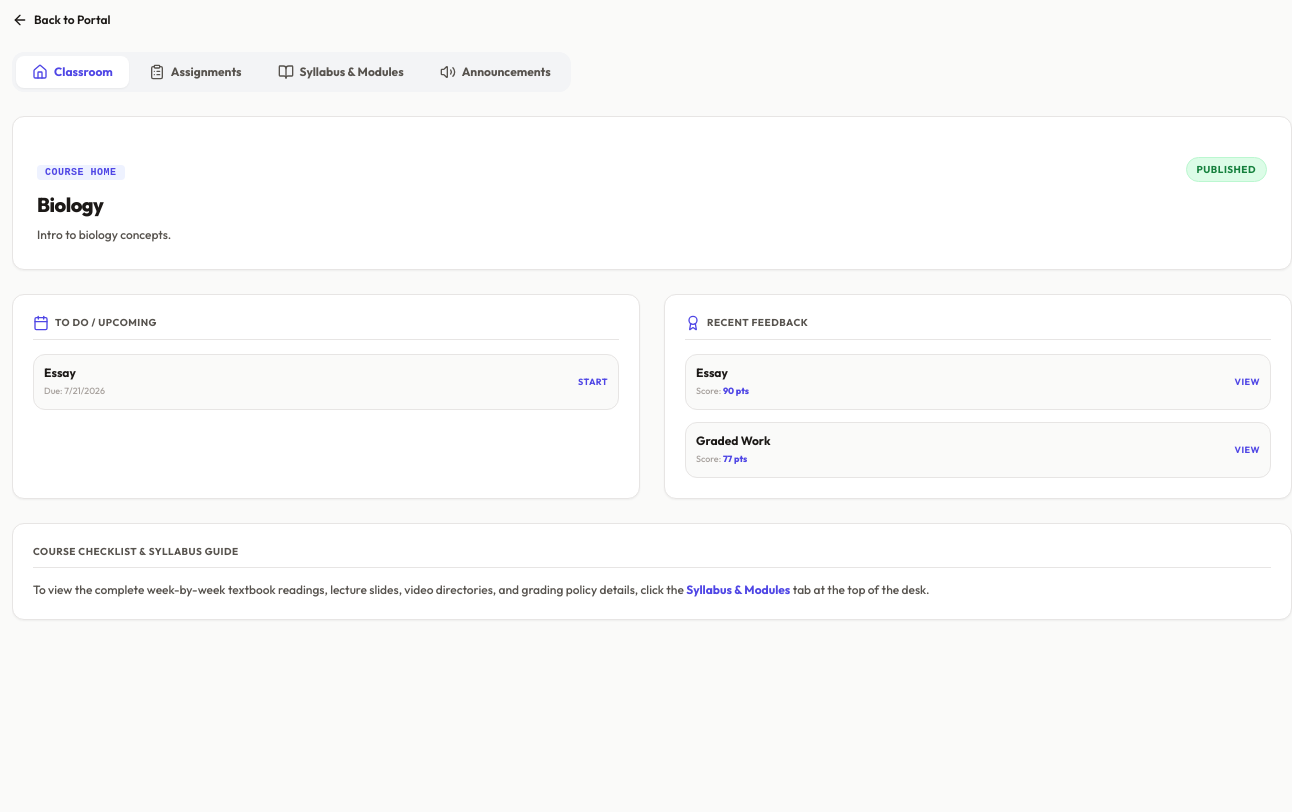
Test: StudentClassDetailPage › clicking an upcoming to-do item switches to the assignments tab with that assignment selected
Click the text "Essay" in the row of "Start": (60, 372) [44, 364, 76, 380]
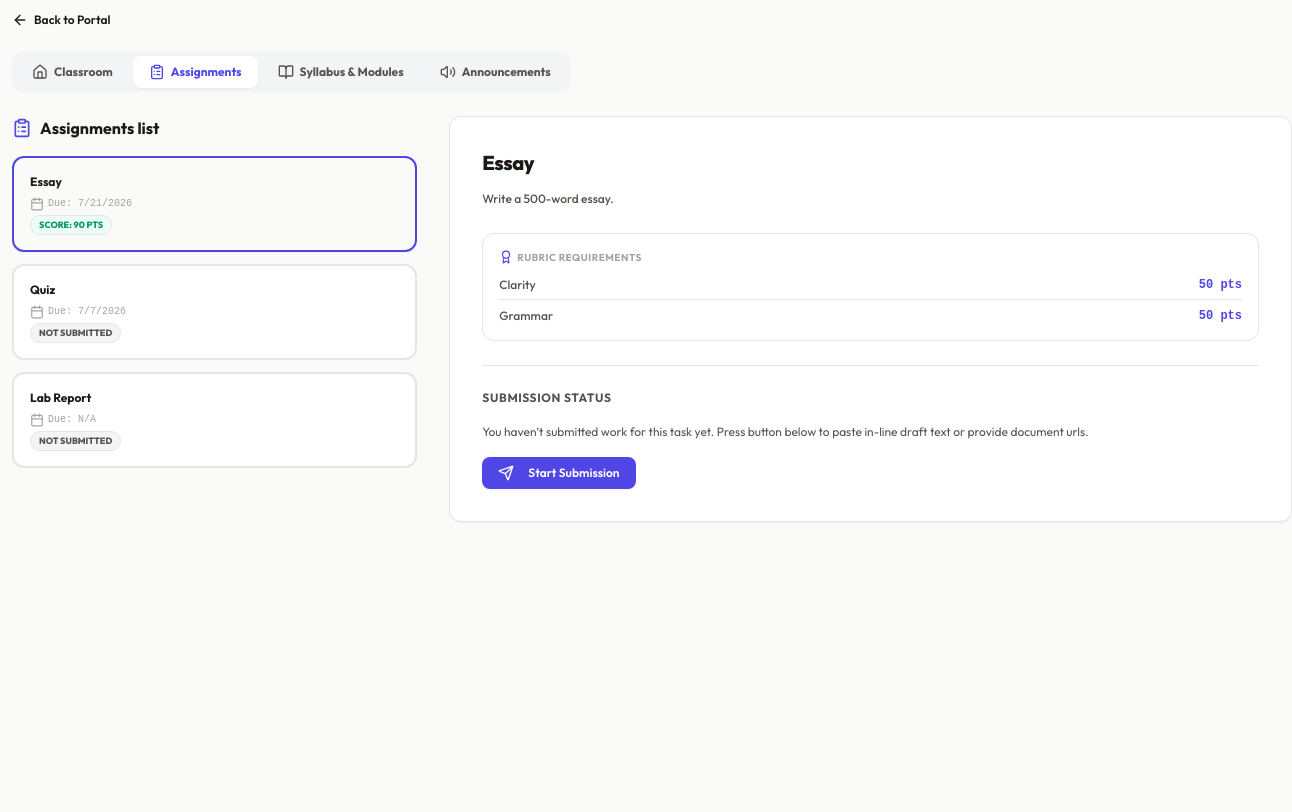
Expected: the heading "Assignments list" is shown, [12, 118, 160, 138]
Expected: the heading "Essay" is shown, [482, 150, 534, 175]
